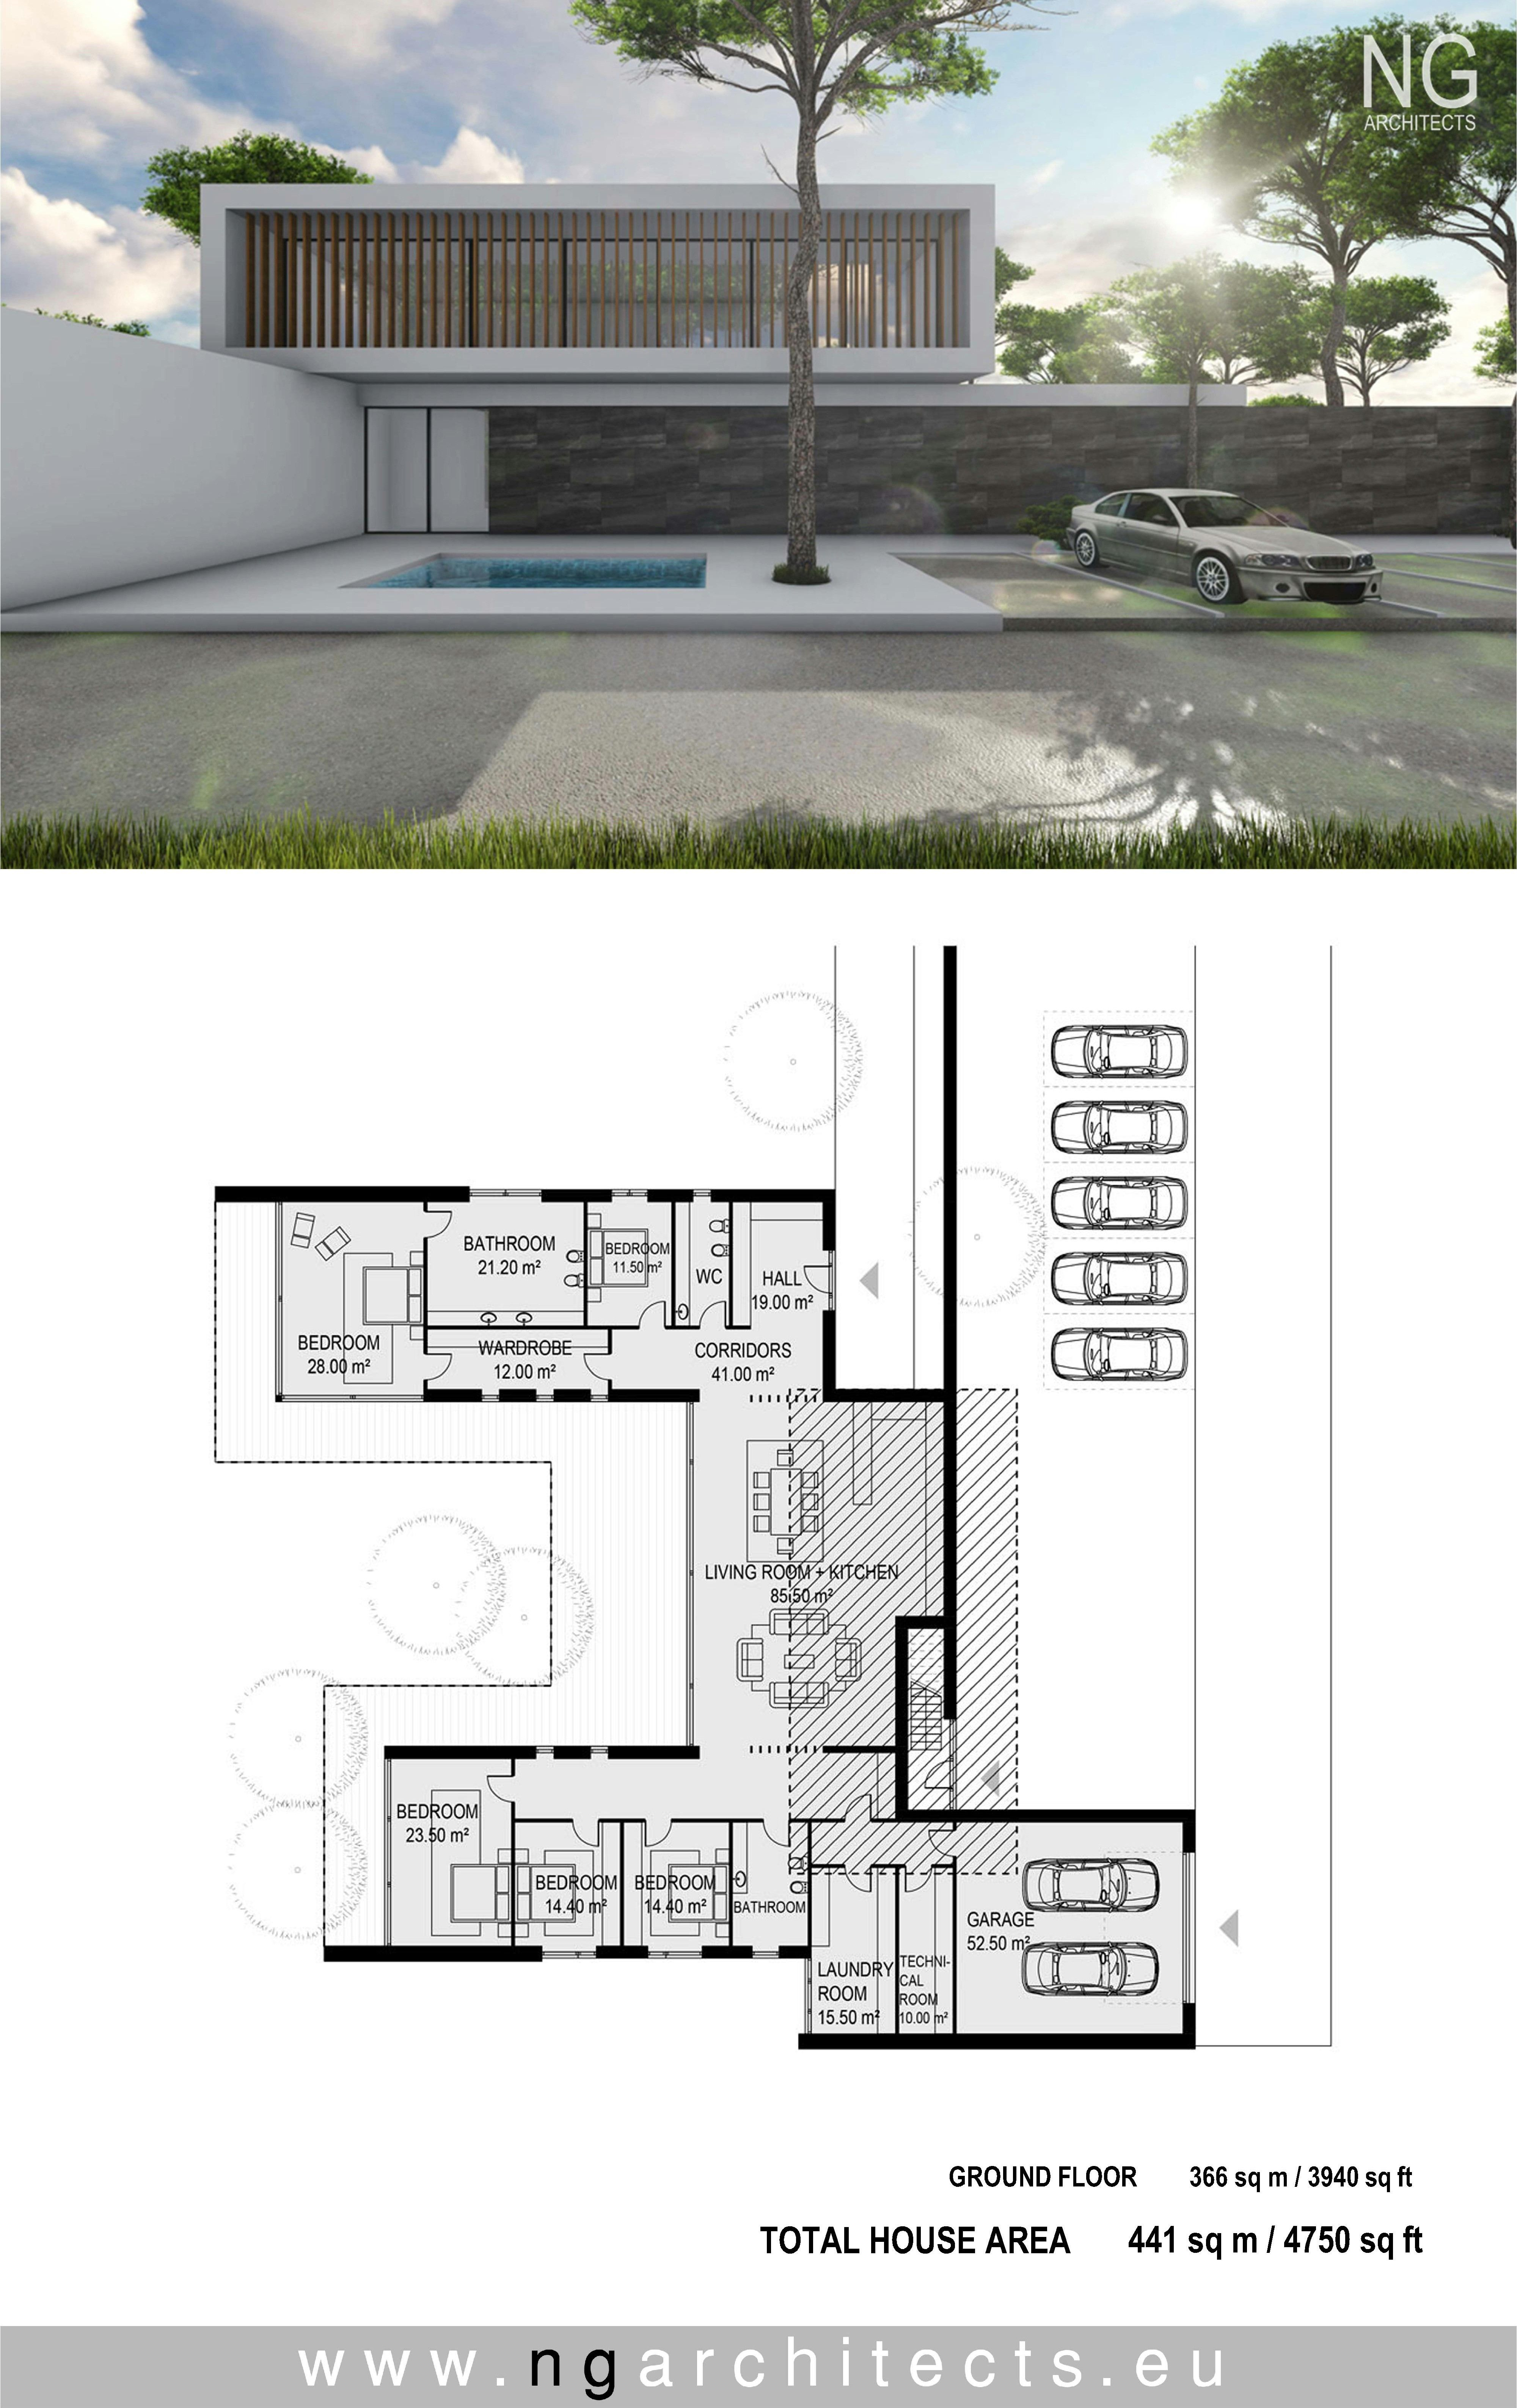door: (697, 1300, 729, 1328), (428, 1353, 458, 1380), (426, 1209, 456, 1237), (580, 1353, 610, 1380), (638, 1300, 668, 1328), (800, 1265, 830, 1293), (760, 1821, 790, 1849), (571, 1823, 601, 1849), (643, 1821, 673, 1847), (486, 1774, 510, 1803)
